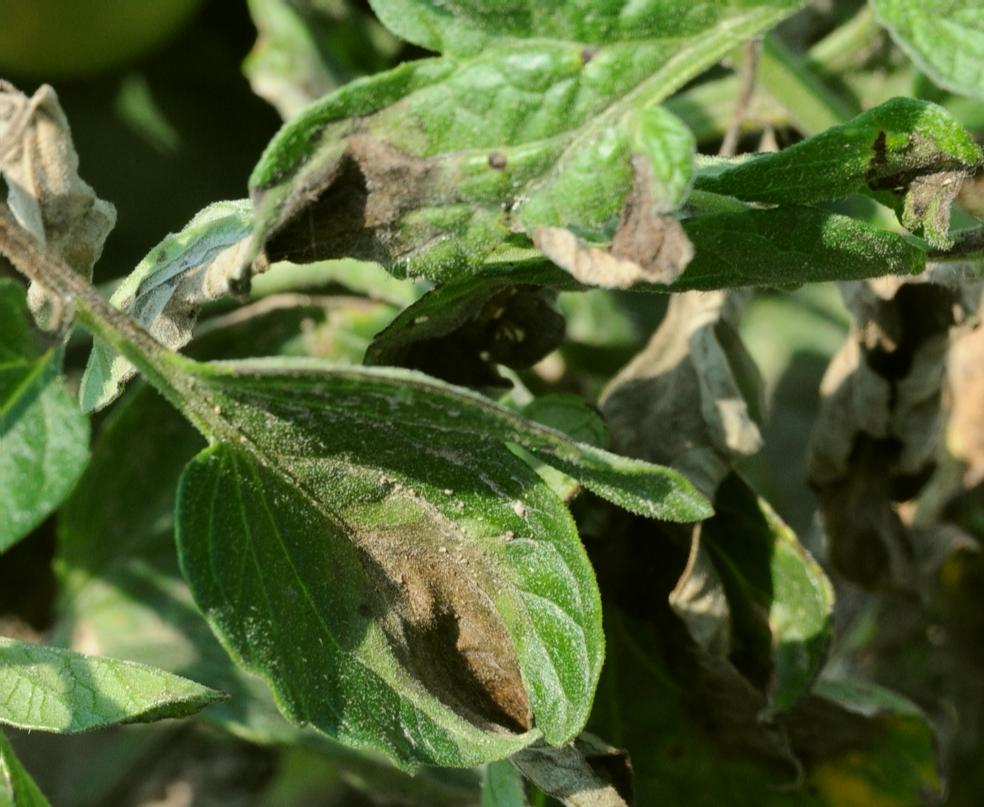Tomato leaf late blight: (165, 351, 641, 807), (261, 0, 759, 323)
